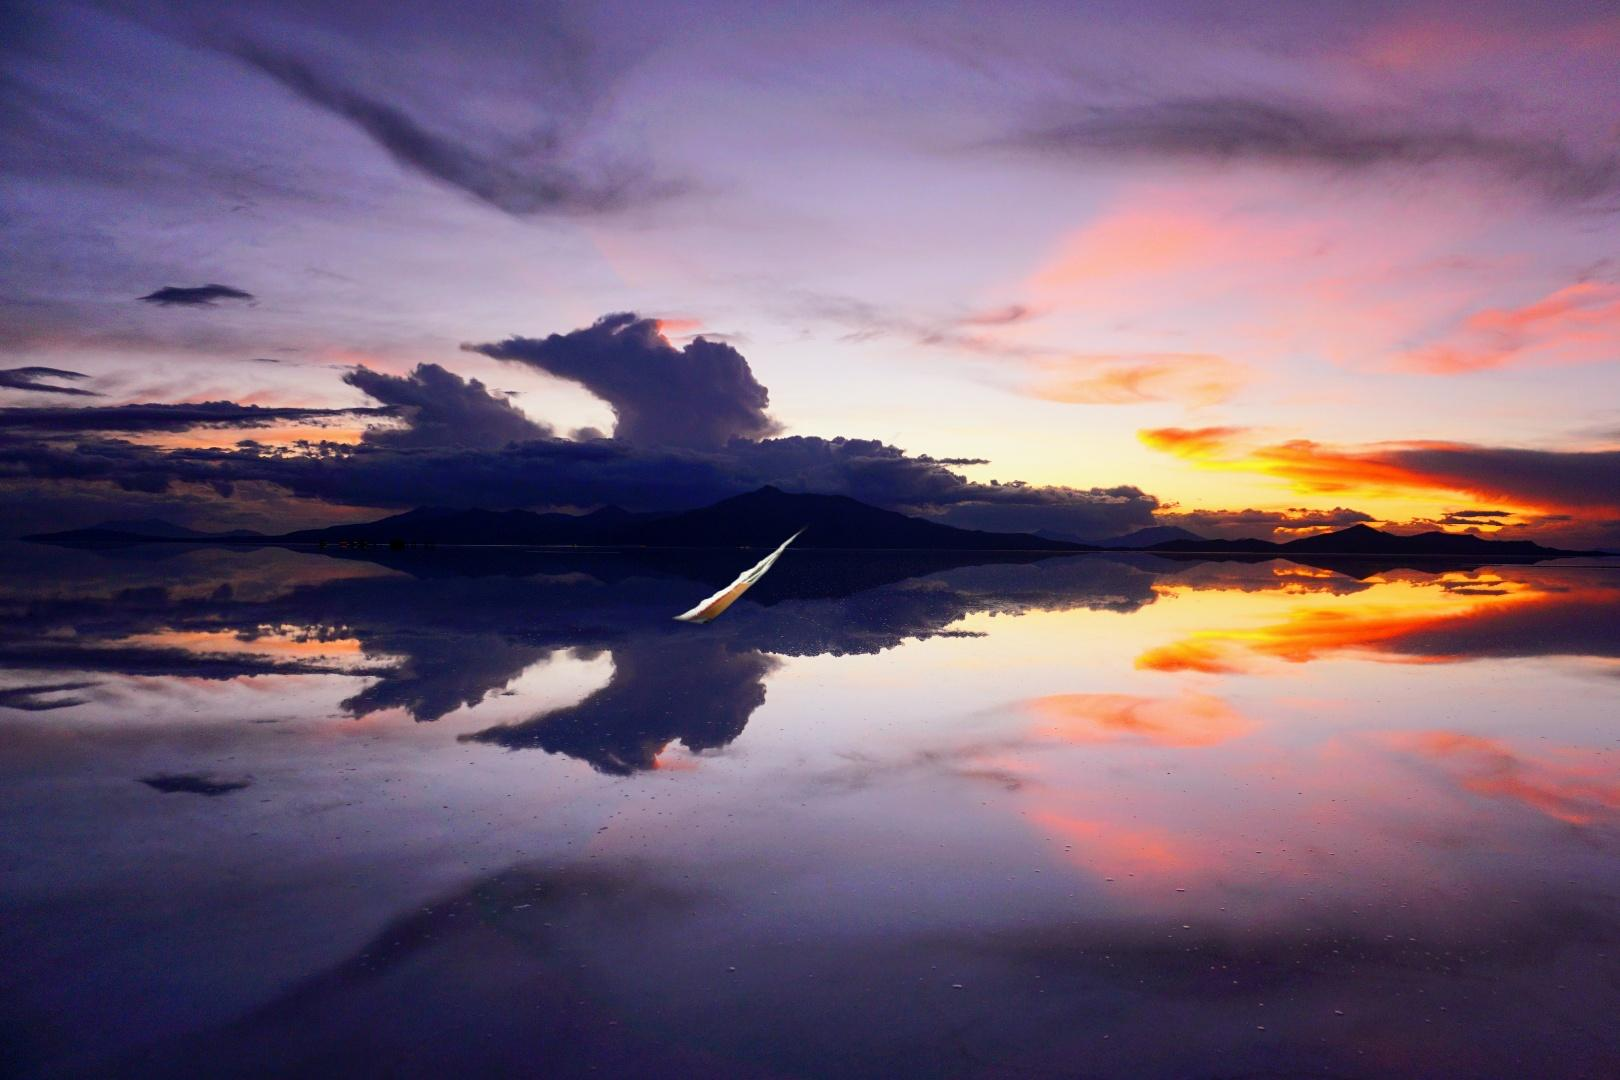paper: (659, 432, 918, 628)
